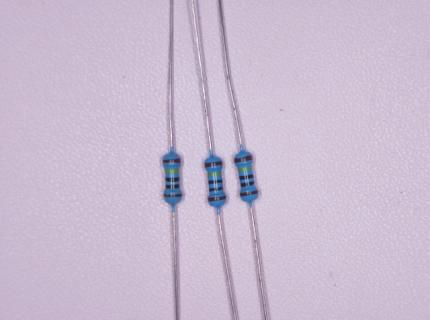Black band: (239, 174, 254, 180), (241, 181, 255, 187), (208, 179, 223, 184), (165, 177, 179, 182), (209, 187, 223, 192), (166, 184, 179, 188)
Brown band: (234, 155, 253, 164), (240, 190, 258, 197), (205, 161, 223, 168), (163, 158, 181, 164), (208, 196, 227, 201), (163, 194, 183, 197)
Yellow band: (207, 172, 222, 177), (238, 167, 252, 172), (165, 169, 179, 173)
